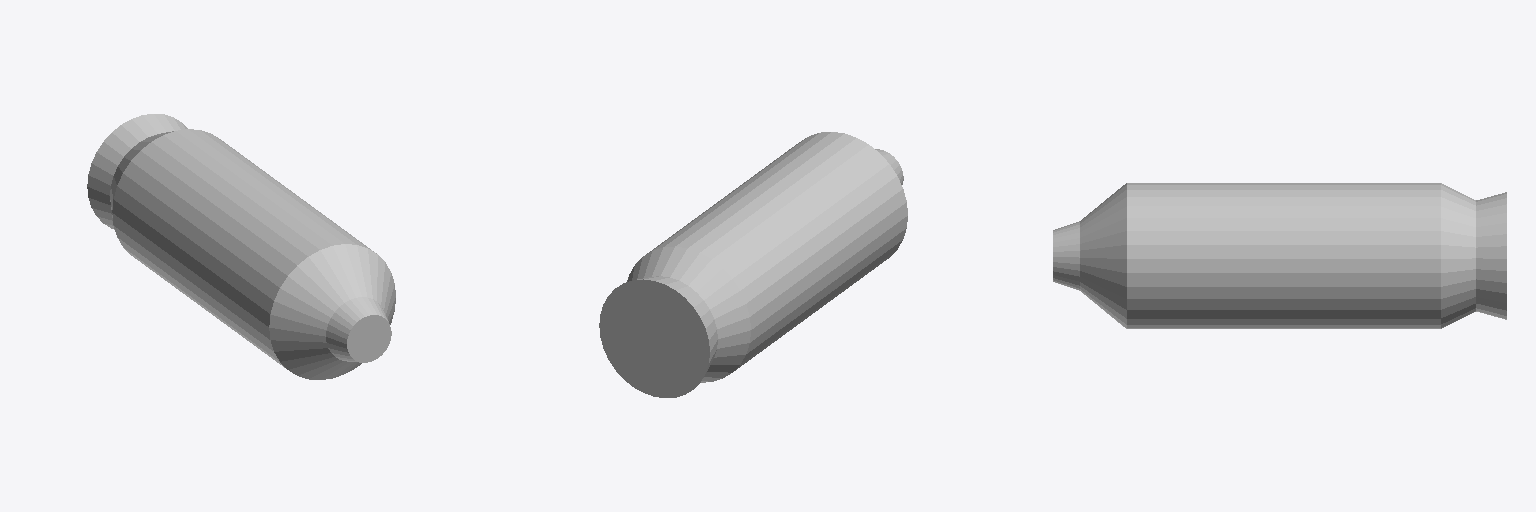
Rendered from JUMPER_ROCKET.obj.
3 renders of one model, left to right at view 1: azimuth 30°, elevation 25°; view 2: azimuth 150°, elevation 25°; view 3: azimuth 270°, elevation 25°, orthographic.
Visible parts, largest first — view 1: Cylinder.001; view 2: Cylinder.001; view 3: Cylinder.001.
Part boxes in pixels (left/top/right/bottom): Cylinder.001: left=87, top=114, right=395, bottom=379; Cylinder.001: left=599, top=132, right=907, bottom=397; Cylinder.001: left=1053, top=183, right=1506, bottom=328.
Bounding box in the file's own units: 1.48 × 1.48 × 4.59.